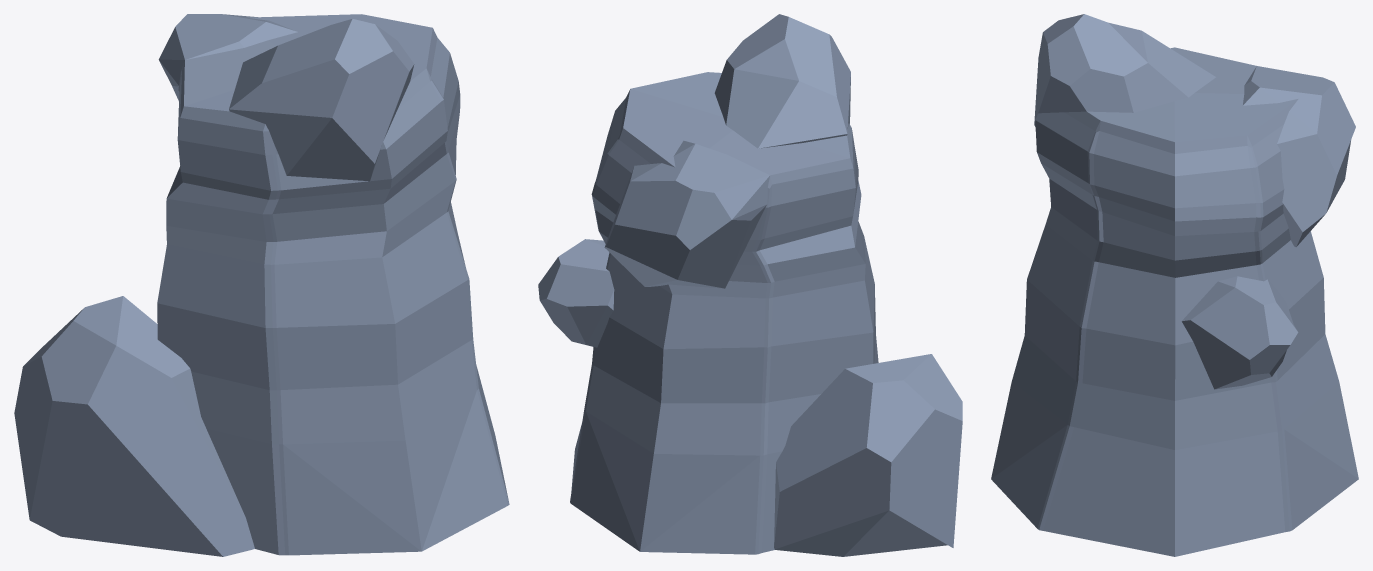
File: Cliff_Rocky.fbx
The picture shows the model from 3 angles, left to right: view 1: azimuth 30°, elevation 25°; view 2: azimuth 150°, elevation 25°; view 3: azimuth 270°, elevation 25°; orthographic projection. The views are drawn at different scales.
Parts seen in each view (by area): view 1: Cliff_Rocky; view 2: Cliff_Rocky; view 3: Cliff_Rocky.
Boxes of the visible parts, x1=… form: Cliff_Rocky: x1=14, y1=14, x2=509, y2=556; Cliff_Rocky: x1=538, y1=14, x2=962, y2=556; Cliff_Rocky: x1=991, y1=14, x2=1358, y2=556.
Bounding box in the file's own units: 7.7 × 8.22 × 6.
